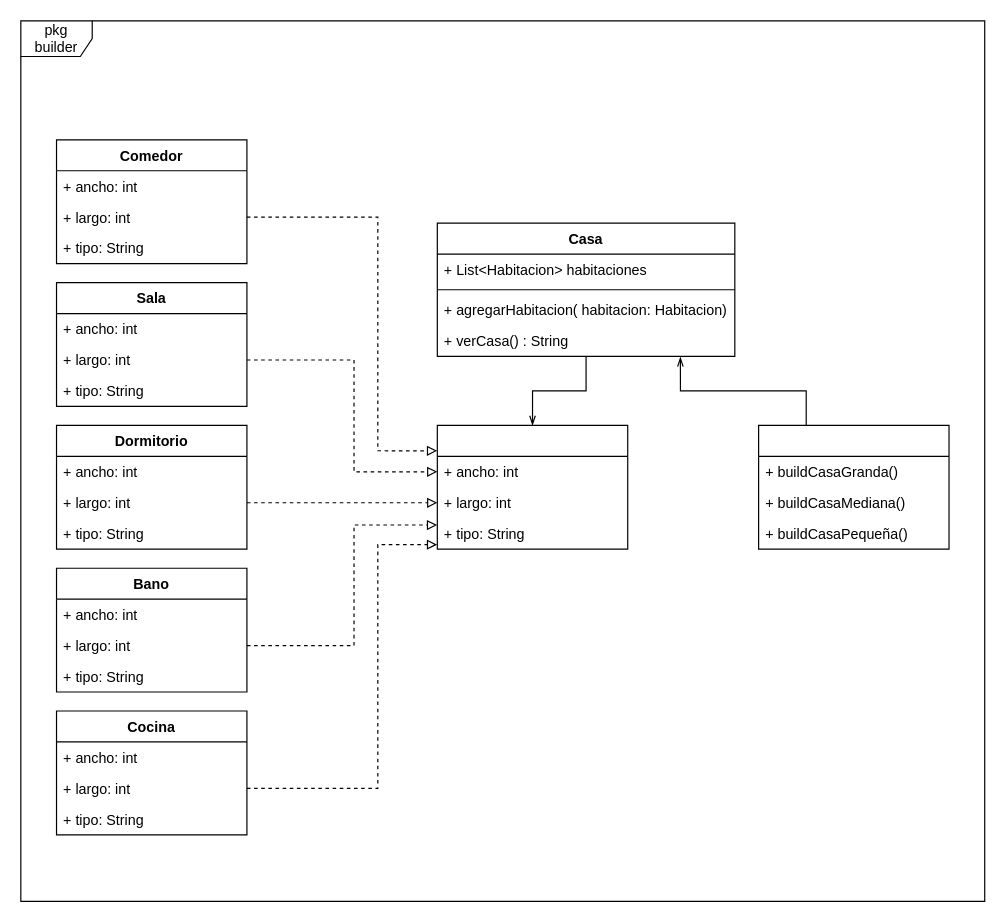
The diagram is 1006 pixels wide and 922 high, and some of its shapes have lost their labels. Here are the shapes that lost their labels. From the top down, the box of each, then its label:
(436, 424, 628, 549): Habitacion
(757, 424, 949, 549): BuilderCasa
